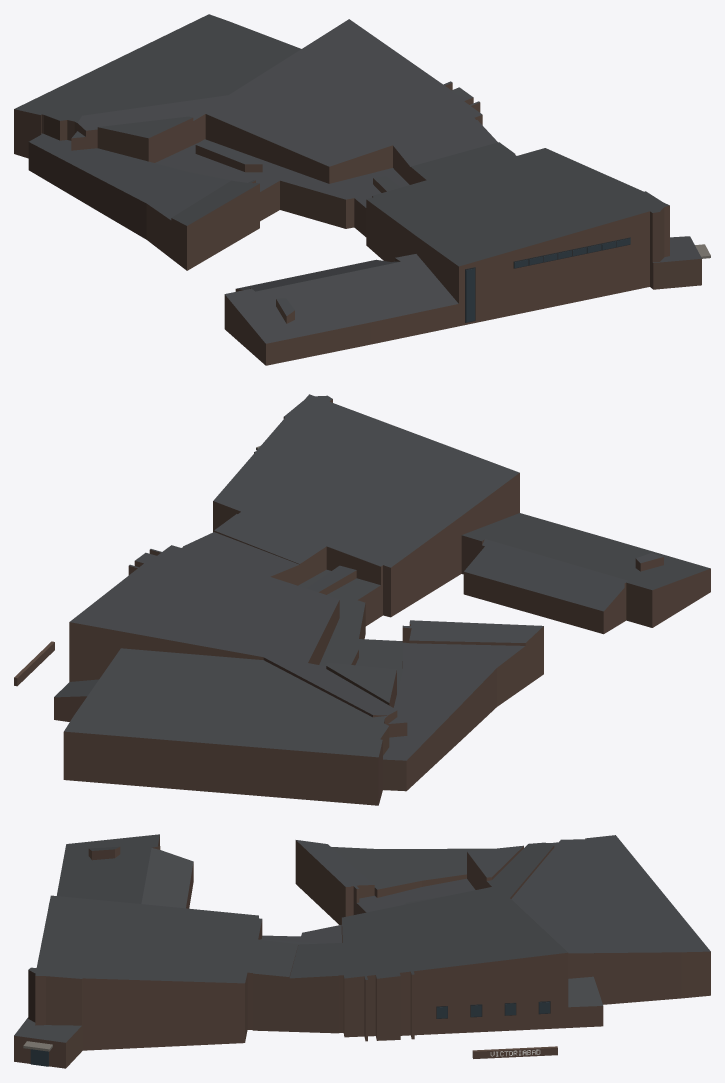
The model's file is victoriabad.glb.
The picture shows the model from 3 angles, top to bottom: view 1: azimuth 30°, elevation 25°; view 2: azimuth 150°, elevation 25°; view 3: azimuth 270°, elevation 25°; orthographic projection. The views are drawn at different scales.
Parts seen in each view (by area): view 1: victoriabad; view 2: victoriabad; view 3: victoriabad.
Boxes of the visible parts, x1,y1,x2,y2 form: victoriabad: (14,14,710,365); victoriabad: (14,394,710,805); victoriabad: (14,834,710,1068).
Size of the model in its own units: 57.19 by 9.81 by 81.72.
